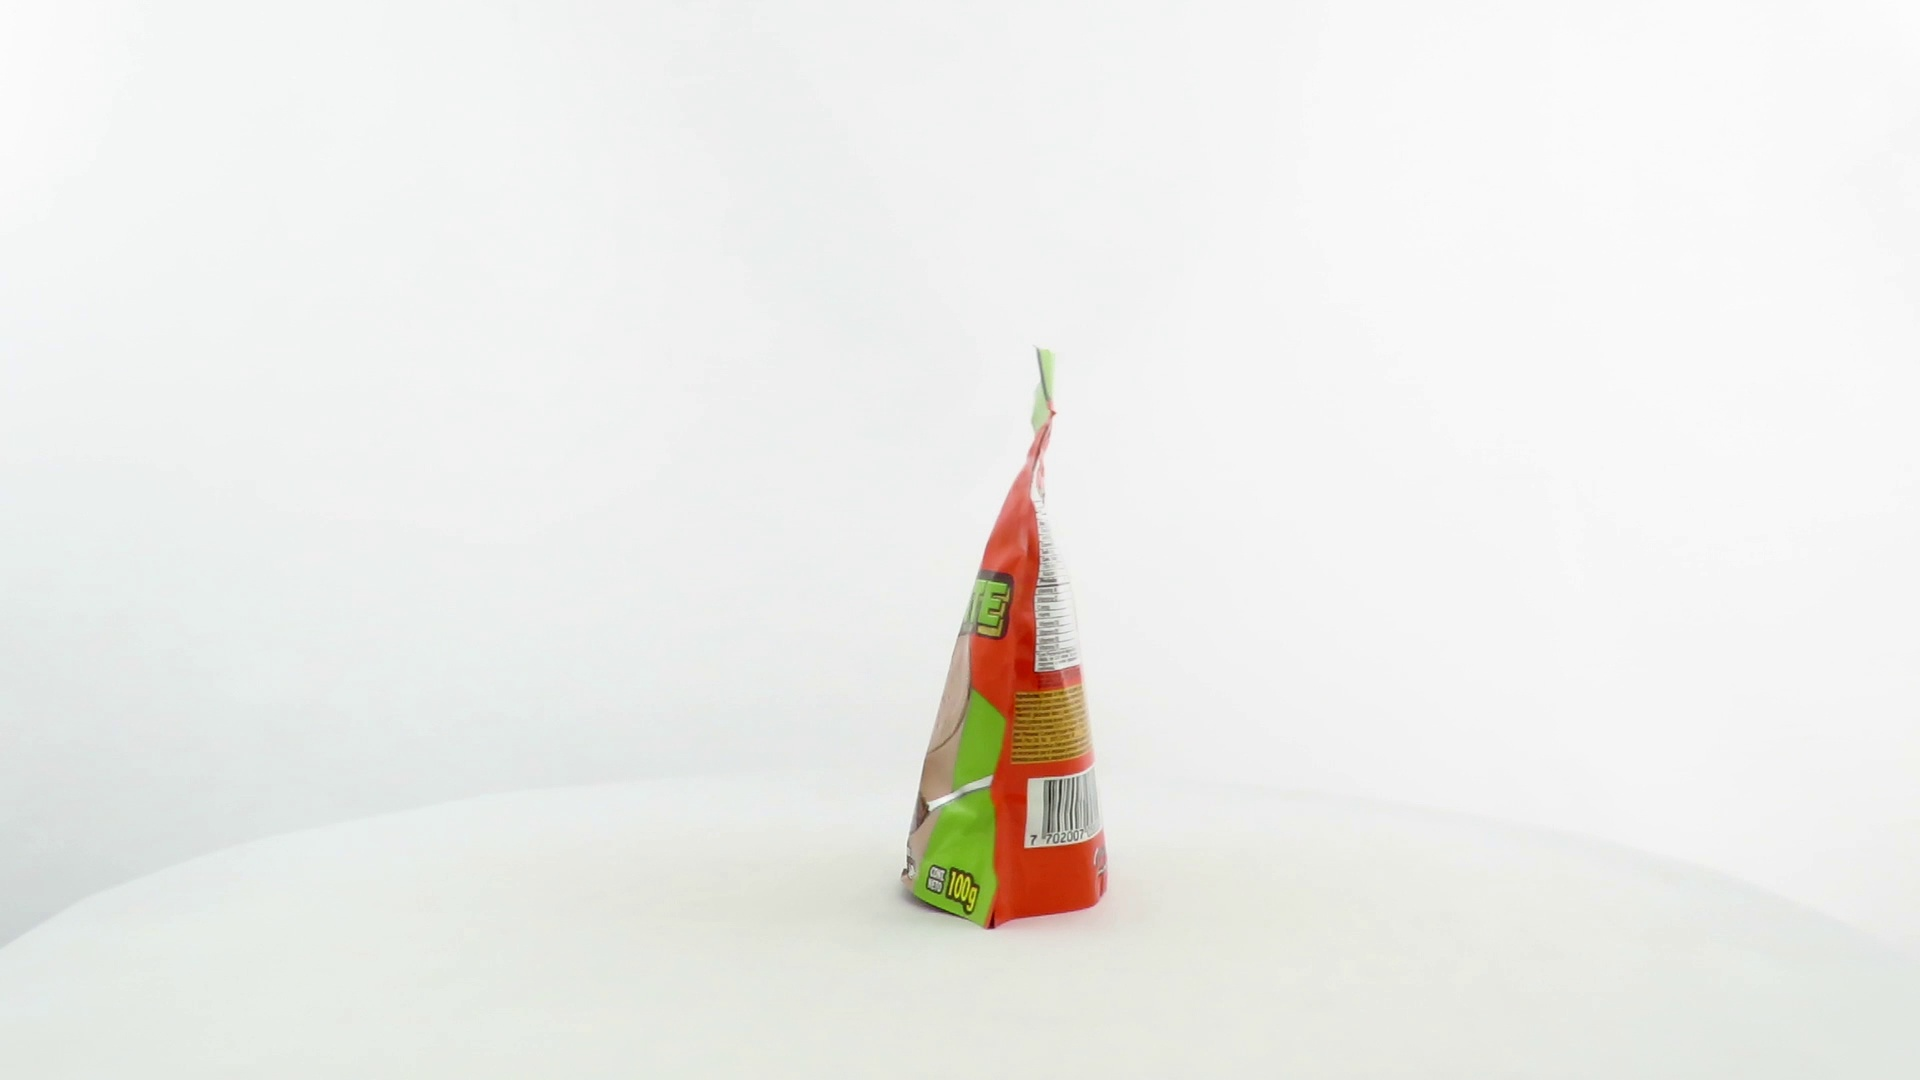COL0170102DYP10000: (889, 344, 1114, 936)
